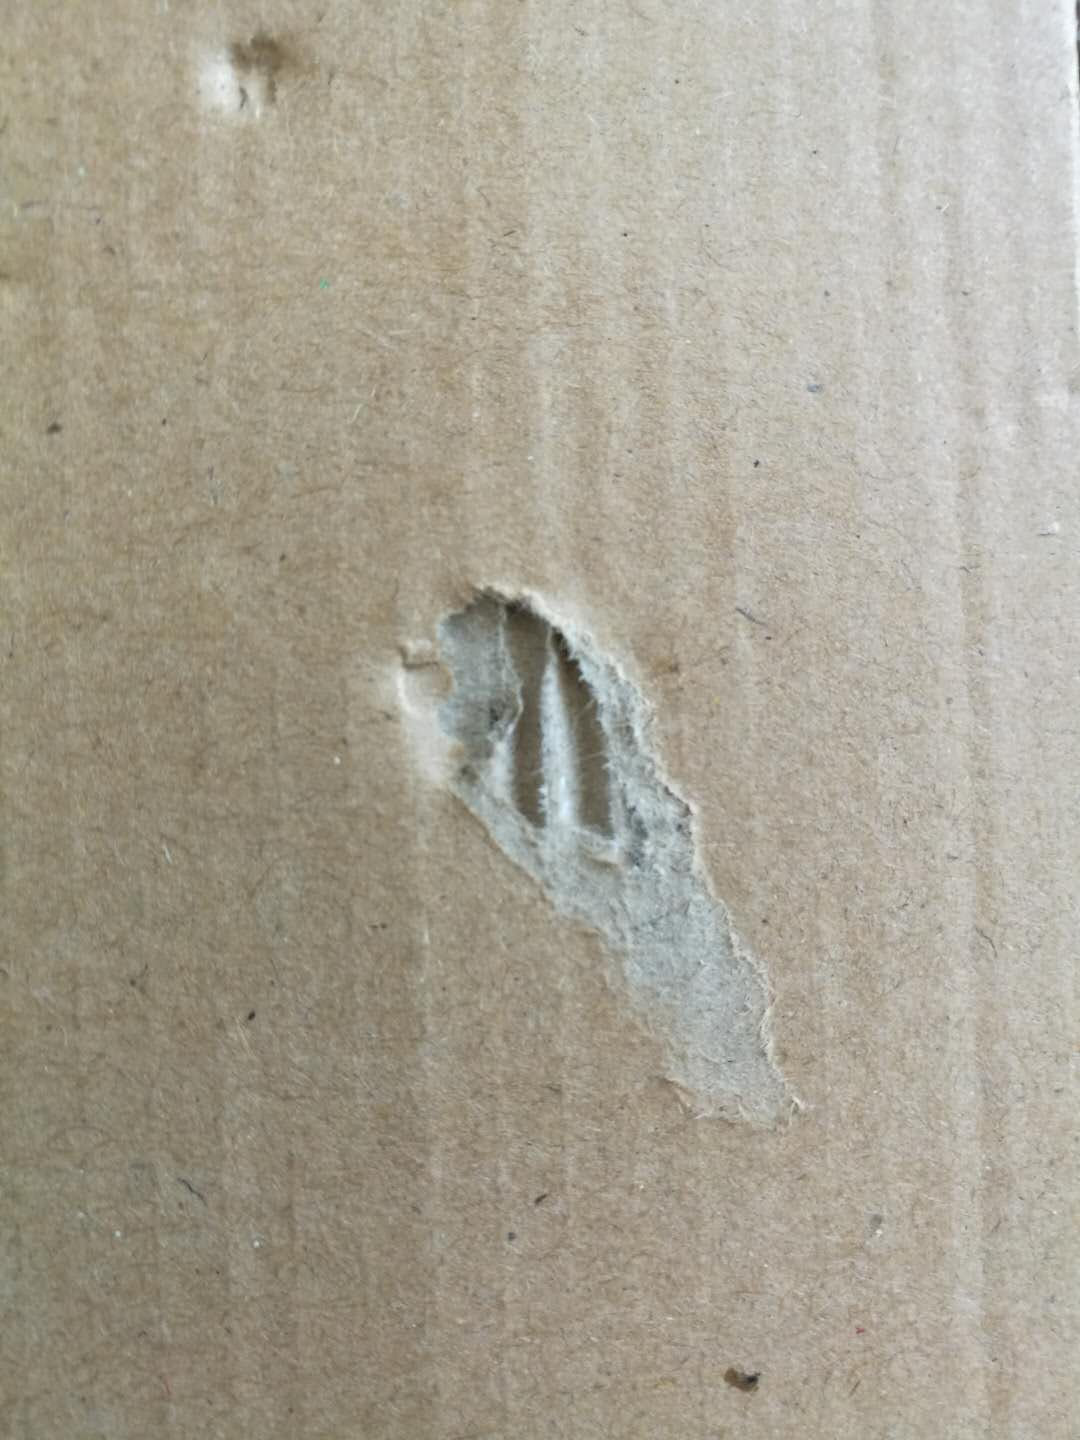defect: (358, 525, 837, 1191), (160, 12, 372, 155)
